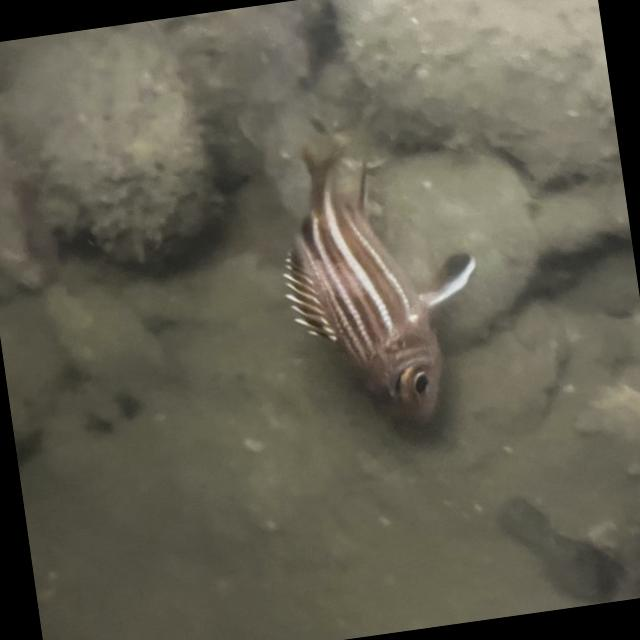Asker Baligi: (260, 126, 499, 445)
